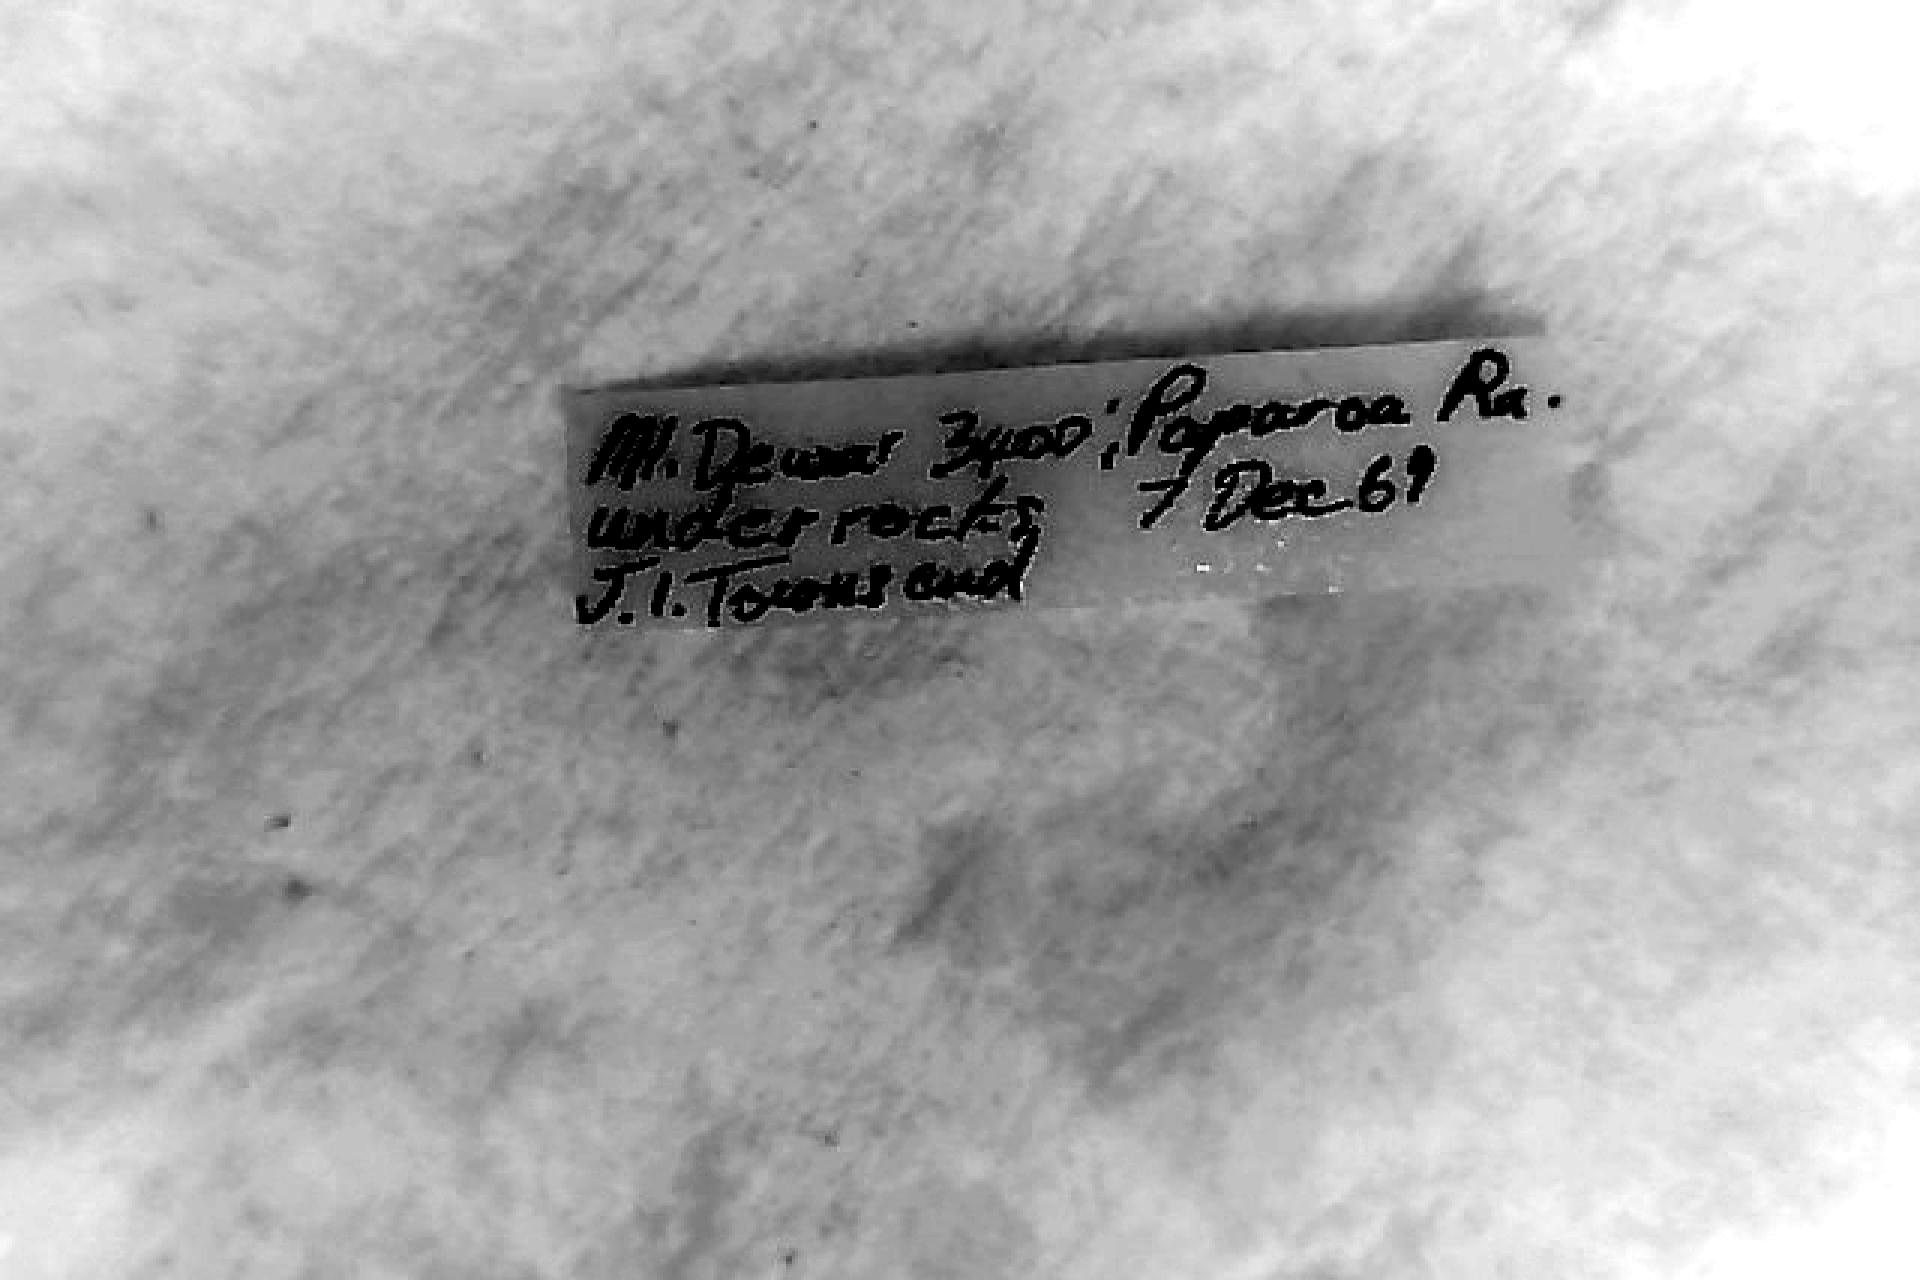hand_label: (571, 337, 1567, 627)
